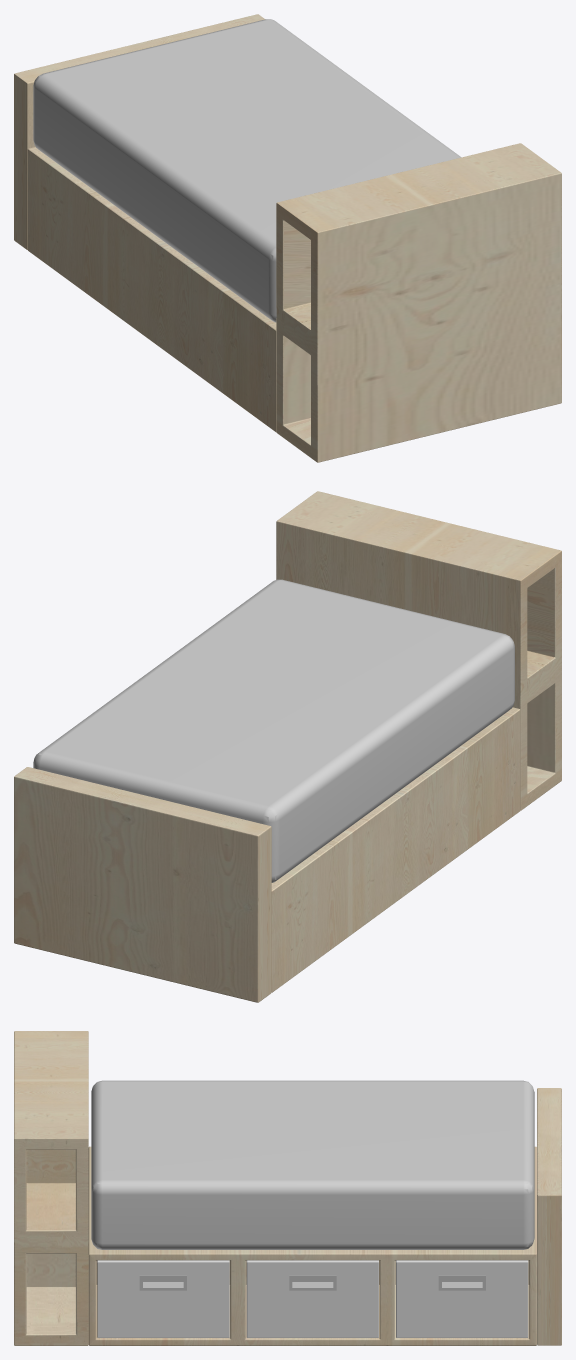
The model's file is bed_r.fbx.
3 views of the same model, one above another, from view 1: azimuth 30°, elevation 25°; view 2: azimuth 150°, elevation 25°; view 3: azimuth 270°, elevation 25° (orthographic). The views are drawn at different scales.
Visible parts, largest first — view 1: polySurface42, polySurface44, polySurface54, polySurface52; view 2: polySurface44, polySurface52, polySurface42, polySurface54; view 3: polySurface44, polySurface42, polySurface54, polySurface48, polySurface49, polySurface50, polySurface52.
Part boxes in pixels (x1=…): polySurface42: x1=276, y1=143, x2=561, y2=462; polySurface44: x1=33, y1=19, x2=461, y2=322; polySurface54: x1=27, y1=147, x2=276, y2=431; polySurface52: x1=14, y1=14, x2=264, y2=249; polySurface44: x1=33, y1=579, x2=514, y2=882; polySurface52: x1=14, y1=767, x2=271, y2=1002; polySurface42: x1=276, y1=491, x2=561, y2=810; polySurface54: x1=271, y1=707, x2=520, y2=992; polySurface44: x1=91, y1=1080, x2=534, y2=1249; polySurface42: x1=14, y1=1031, x2=88, y2=1345; polySurface54: x1=88, y1=1146, x2=536, y2=1345; polySurface48: x1=97, y1=1260, x2=229, y2=1337; polySurface49: x1=396, y1=1260, x2=528, y2=1337; polySurface50: x1=246, y1=1260, x2=378, y2=1337; polySurface52: x1=537, y1=1088, x2=561, y2=1345.
Size of the model in its own units: 10.04 by 9 by 21.5.
4 materials, 1 textured.
